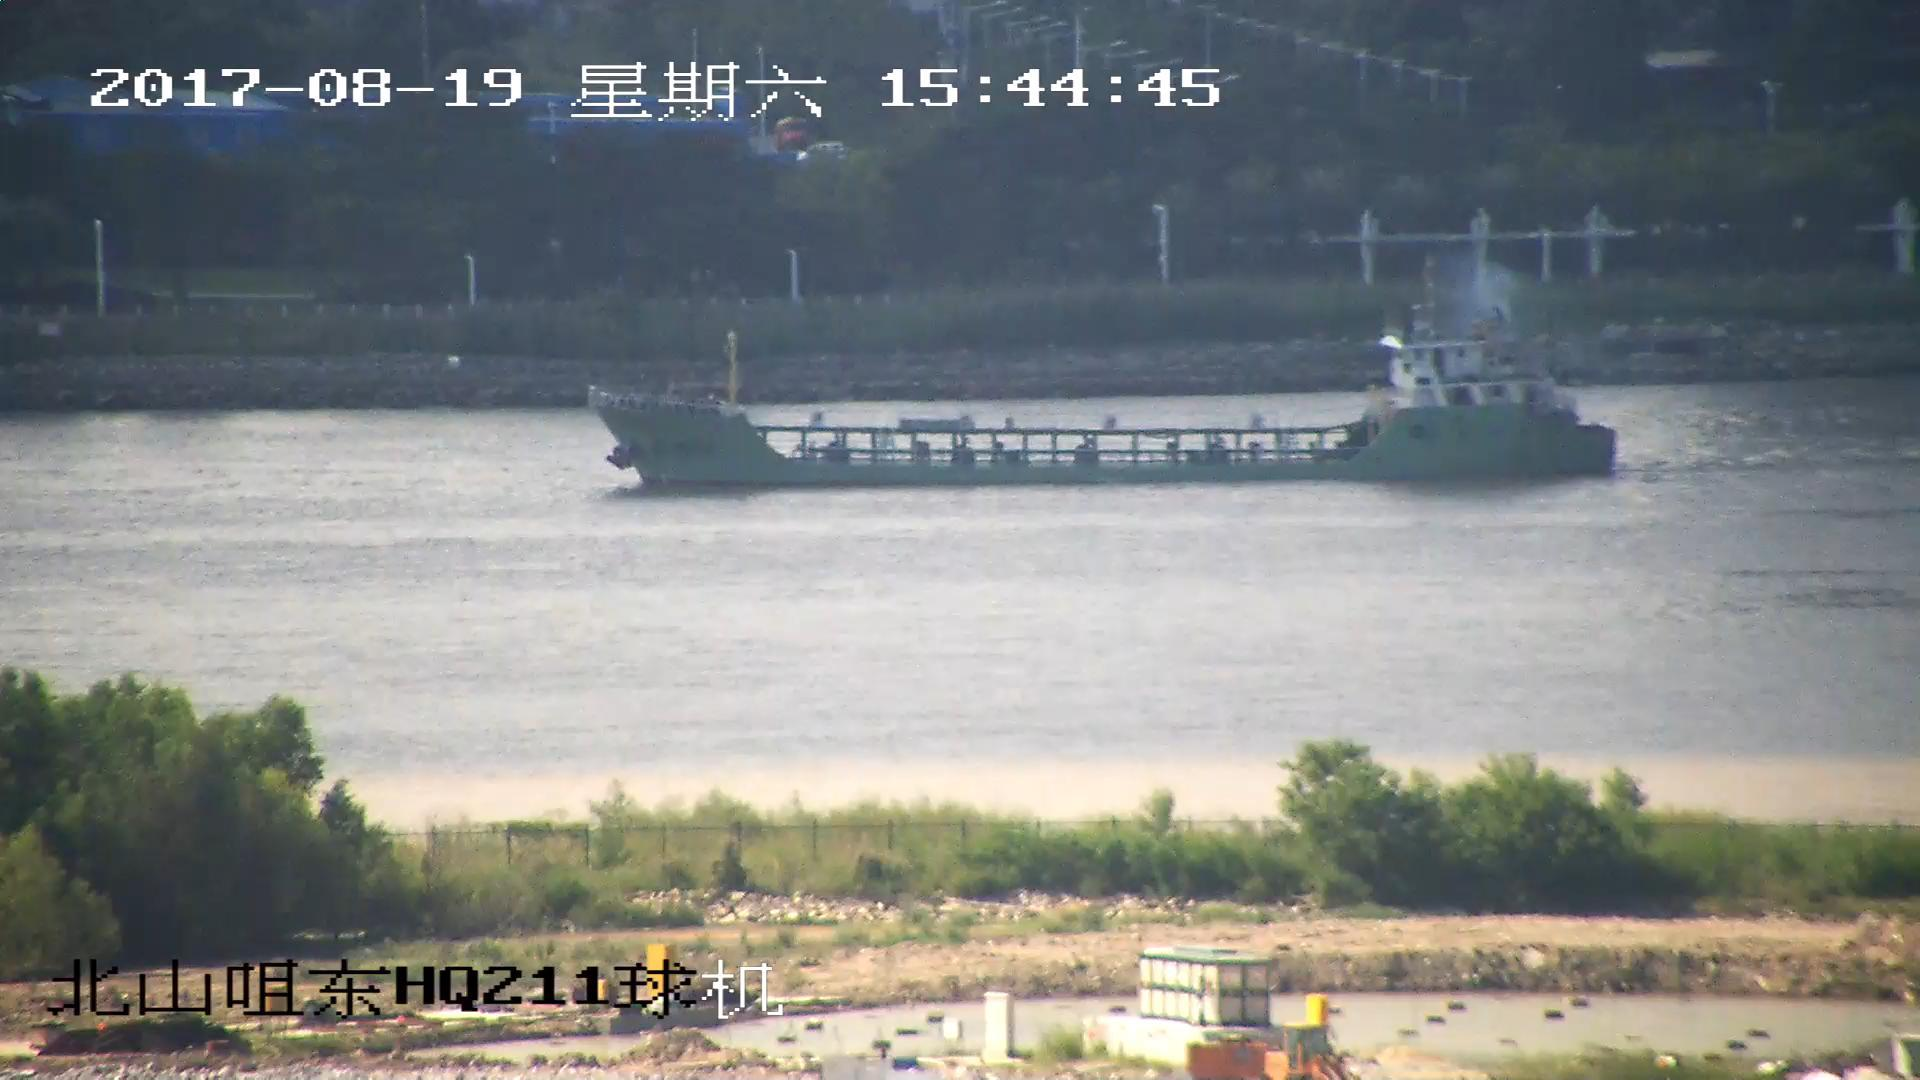Ship: (584, 342, 1613, 489)
